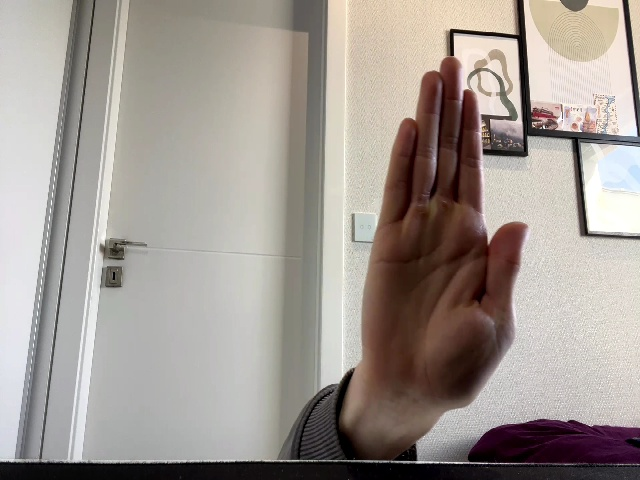B: (362, 57, 529, 411)
